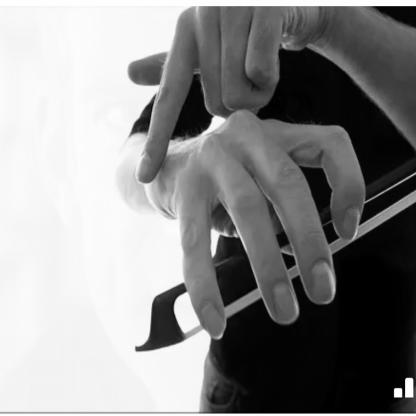bad: (145, 99, 388, 342)
